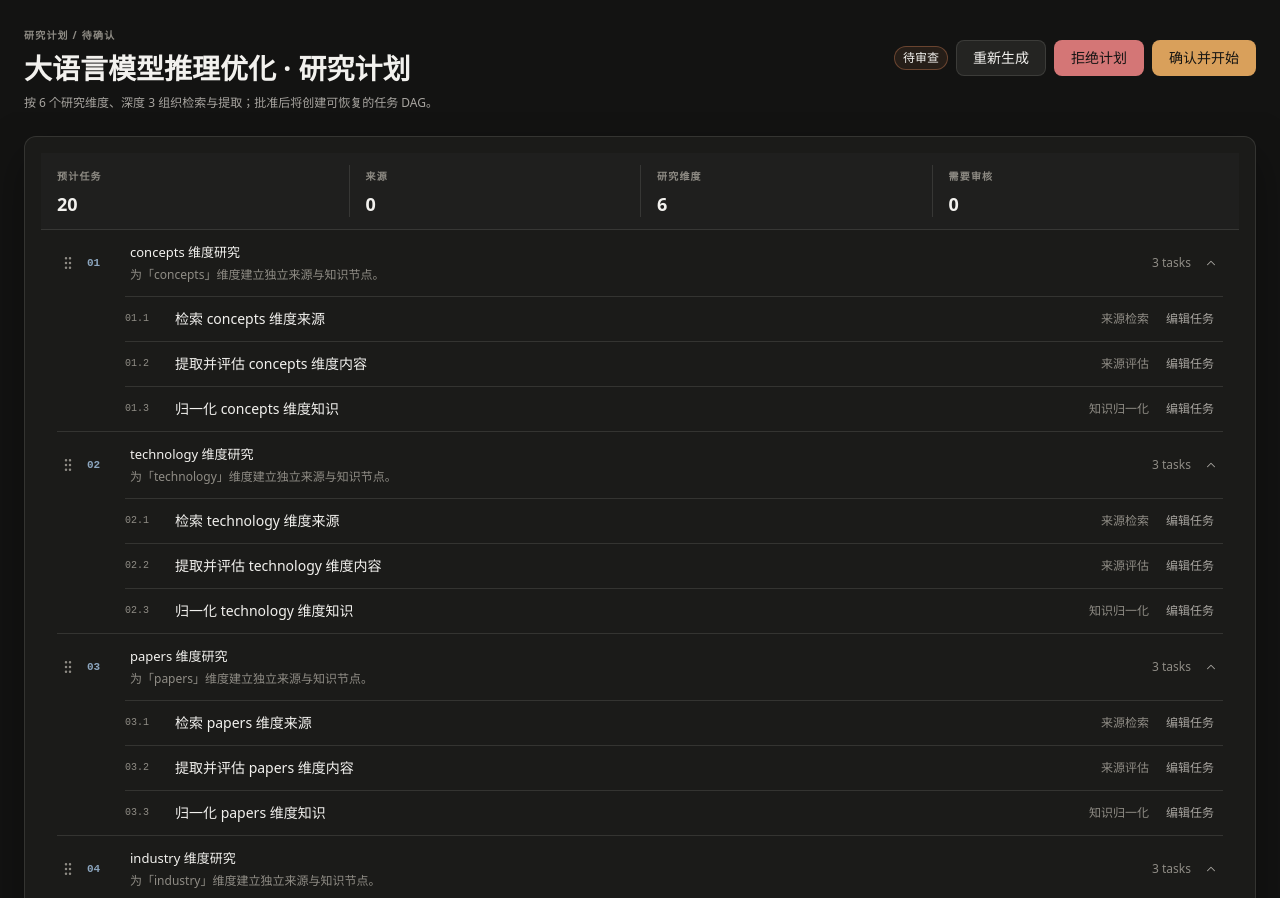
Test case: PlanPage plan-review interactions (desktop-wired commands) › rejects the draft plan, then regenerates a fresh editable draft
Expected: the button "重新生成" is shown, 956,40 -> 1046,76
Expected: the button "编辑任务" in the row of "检索 concepts 维度来源" is shown, 1157,305 -> 1223,333
What coordinates should you click on to do the following:
click the button "拒绝计划"
I would click on:
 (1099, 58)
Its box is 1054,40 -> 1144,76.
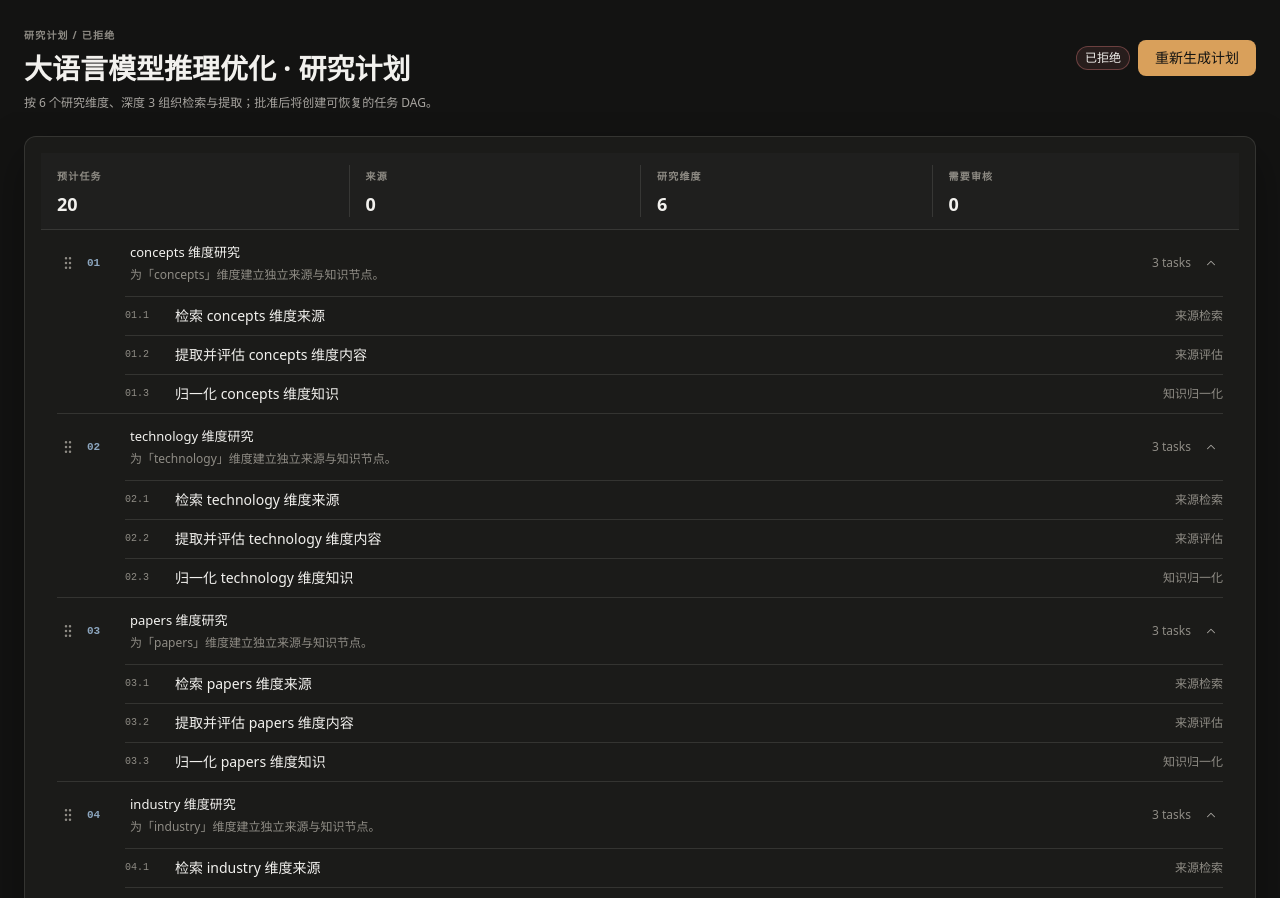
Result: the button "重新生成计划" is shown
Result: the button "拒绝计划" is gone
Result: the button "编辑任务" is gone
What coordinates should you click on to do the following:
click the button "重新生成计划"
I would click on:
 (1197, 58)
Its box is 1138,40 -> 1256,76.
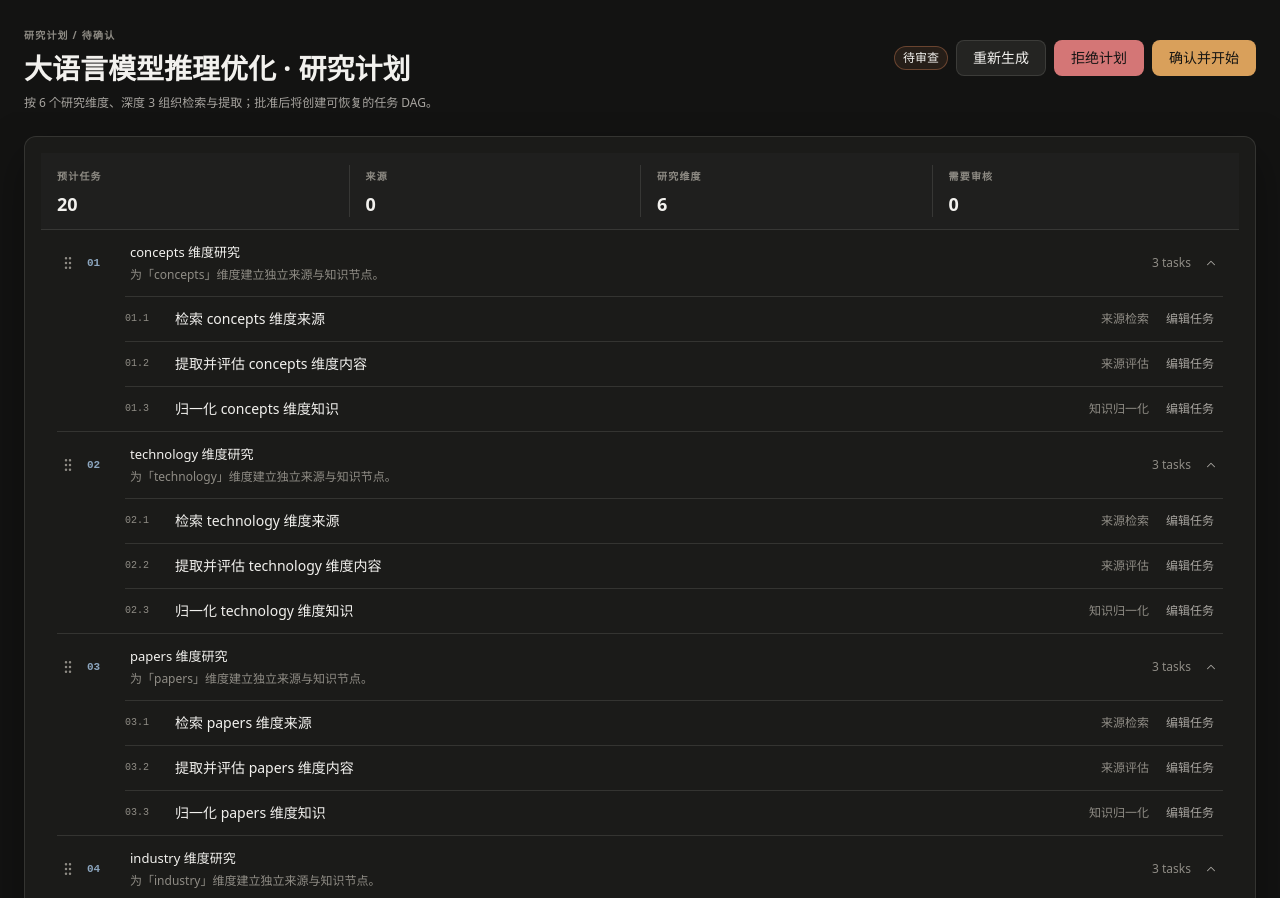
Expected: the button "重新生成" is shown, 956,40 -> 1046,76
Result: the button "编辑任务" in the row of "检索 concepts 维度来源" is shown at 1157,305 -> 1223,333
